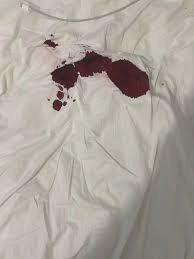blood: (51, 52, 150, 107)
